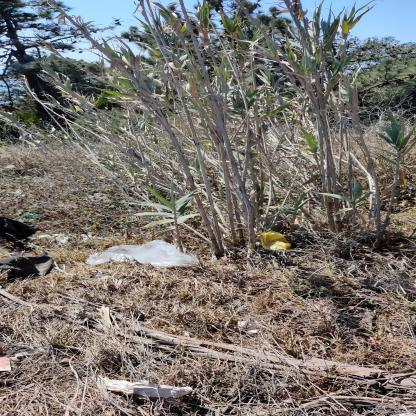plastik: (87, 240, 201, 269), (256, 231, 294, 253)
